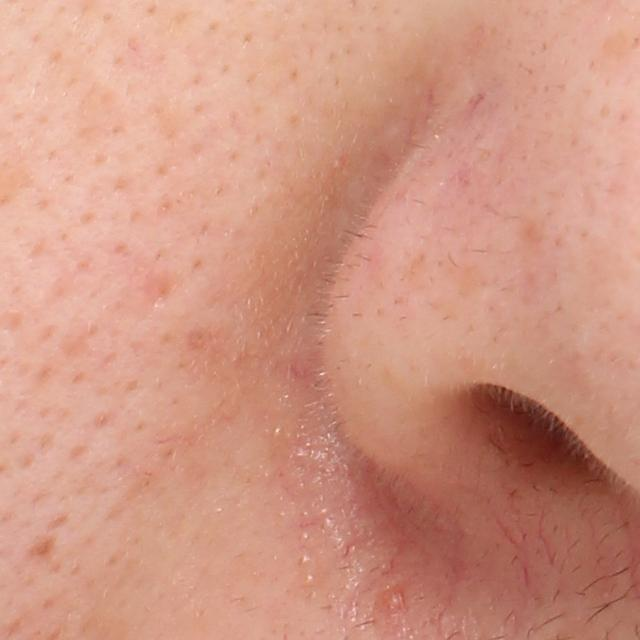atrophic_scar: (140, 269, 181, 315)
